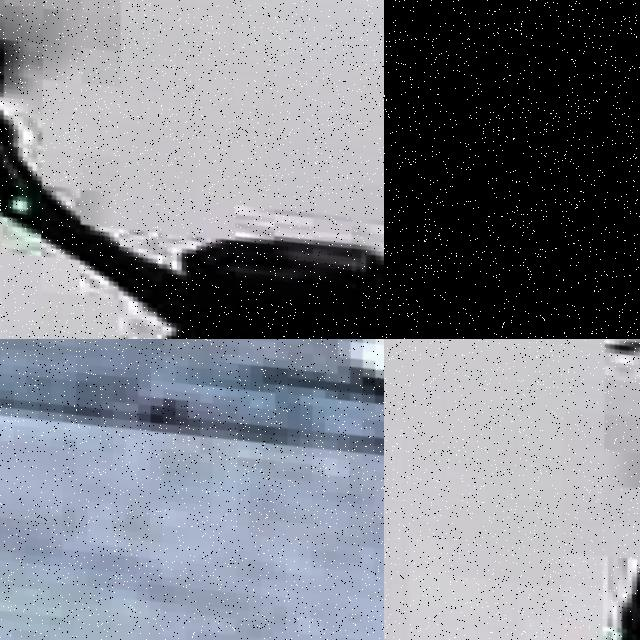drone: (0, 0, 384, 339), (0, 339, 384, 640), (384, 339, 640, 640)
